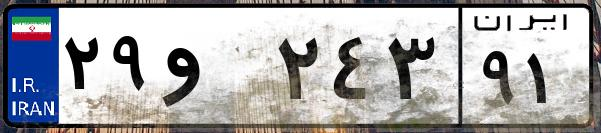1: (525, 38, 570, 115)
2: (270, 28, 330, 110), (57, 26, 110, 100)
3: (385, 28, 445, 110)
4: (330, 28, 385, 110)
9: (475, 38, 525, 113), (110, 28, 158, 98)
و: (158, 20, 270, 120)
